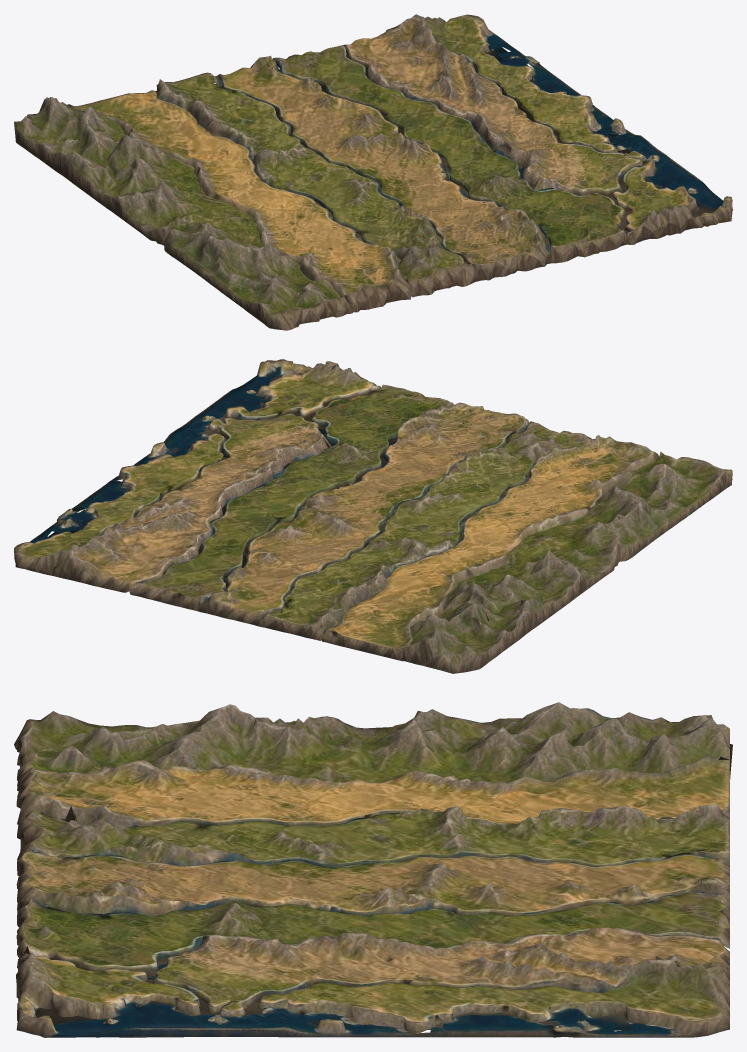
Rendered from states.glb.
3 views of the same model, one above another, from view 1: azimuth 30°, elevation 25°; view 2: azimuth 150°, elevation 25°; view 3: azimuth 270°, elevation 25° (orthographic). The views are drawn at different scales.
Bounding box in the file's own units: 0.9507 × 0.0654 × 0.9561.
1 material, 1 textured.
